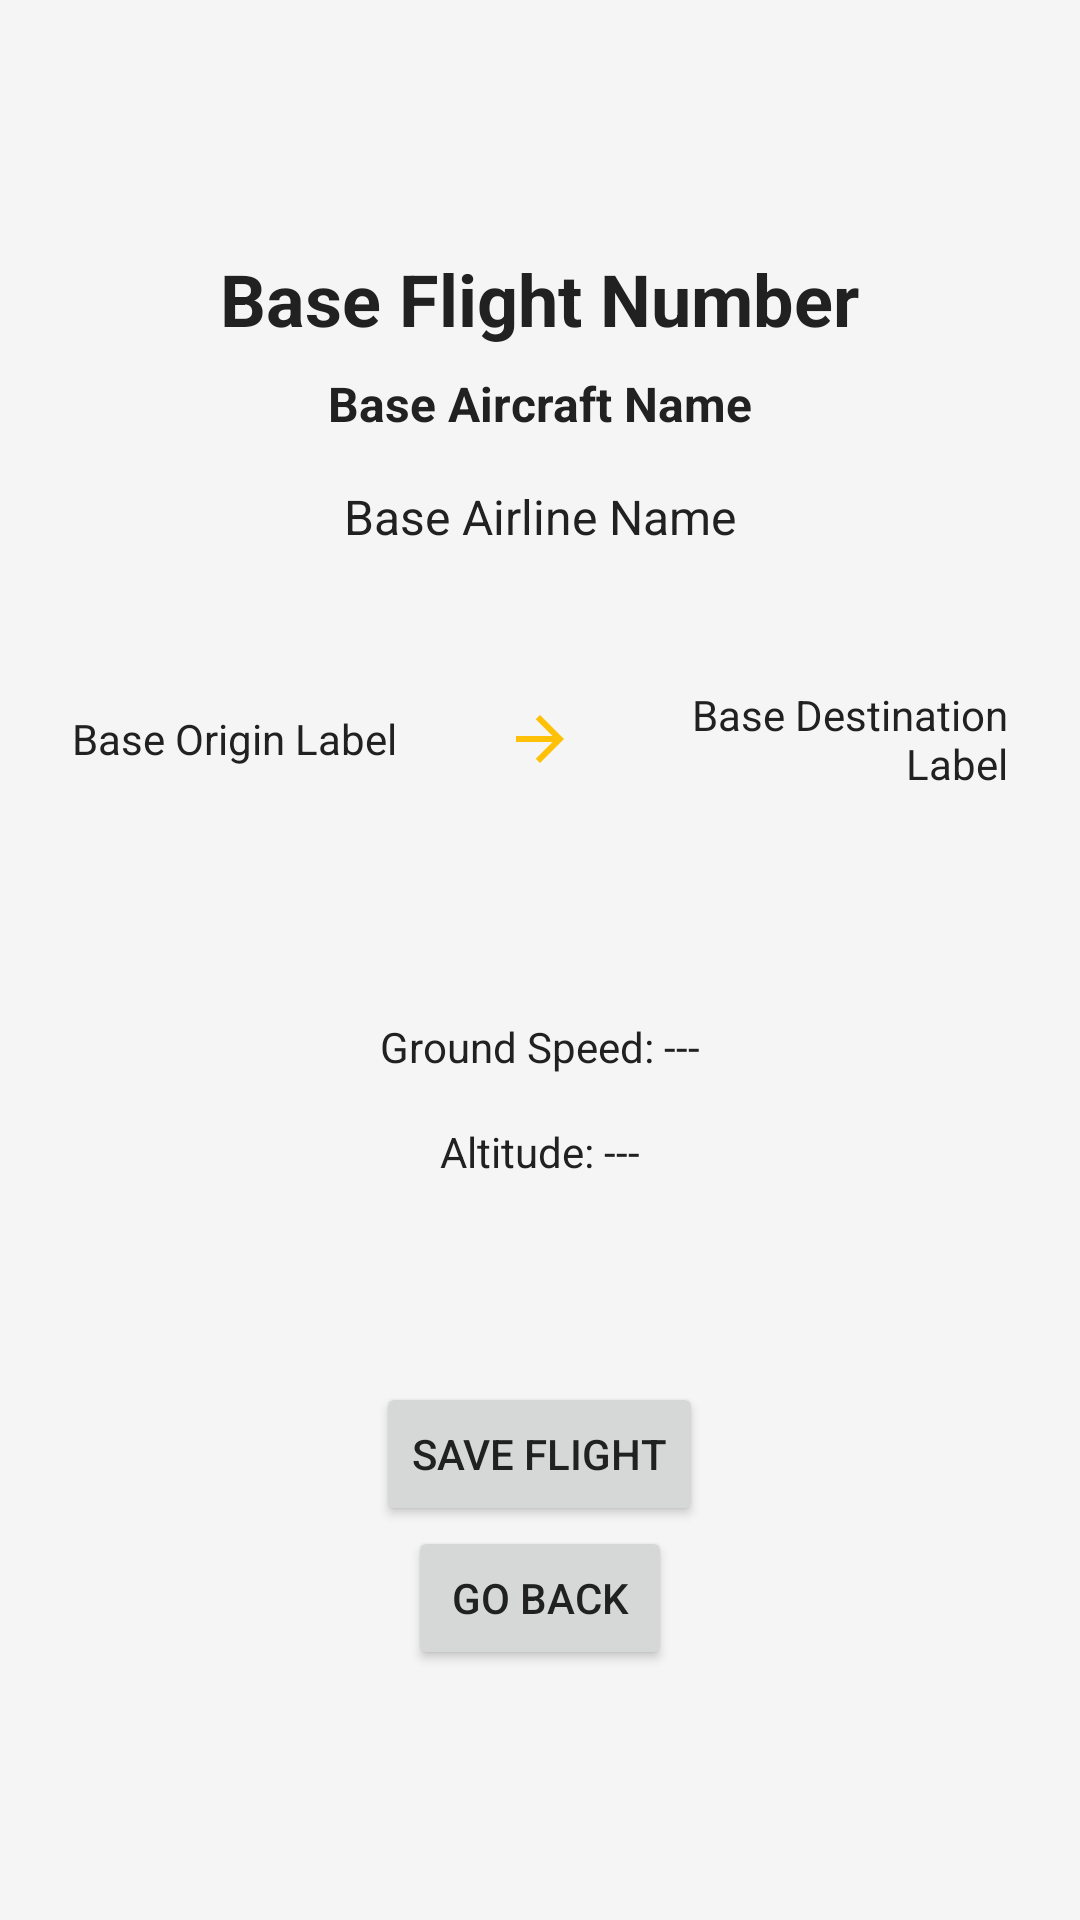

Screen size 1080 x 1920. Icon name, then its box in pixels as bbox=(x1, y1, x2, y2):
Arrow Icon: bbox=(516, 715, 564, 763)
